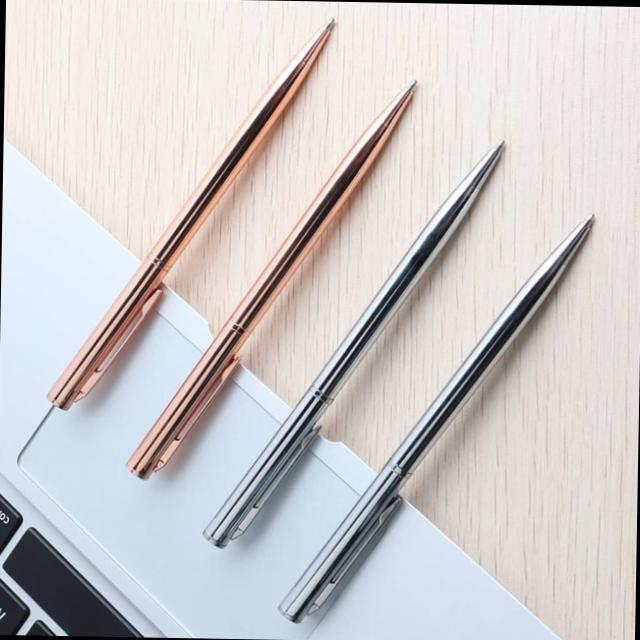pen: (23, 9, 631, 634), (252, 194, 620, 627), (187, 115, 527, 575), (112, 60, 452, 494), (31, 8, 359, 432)
